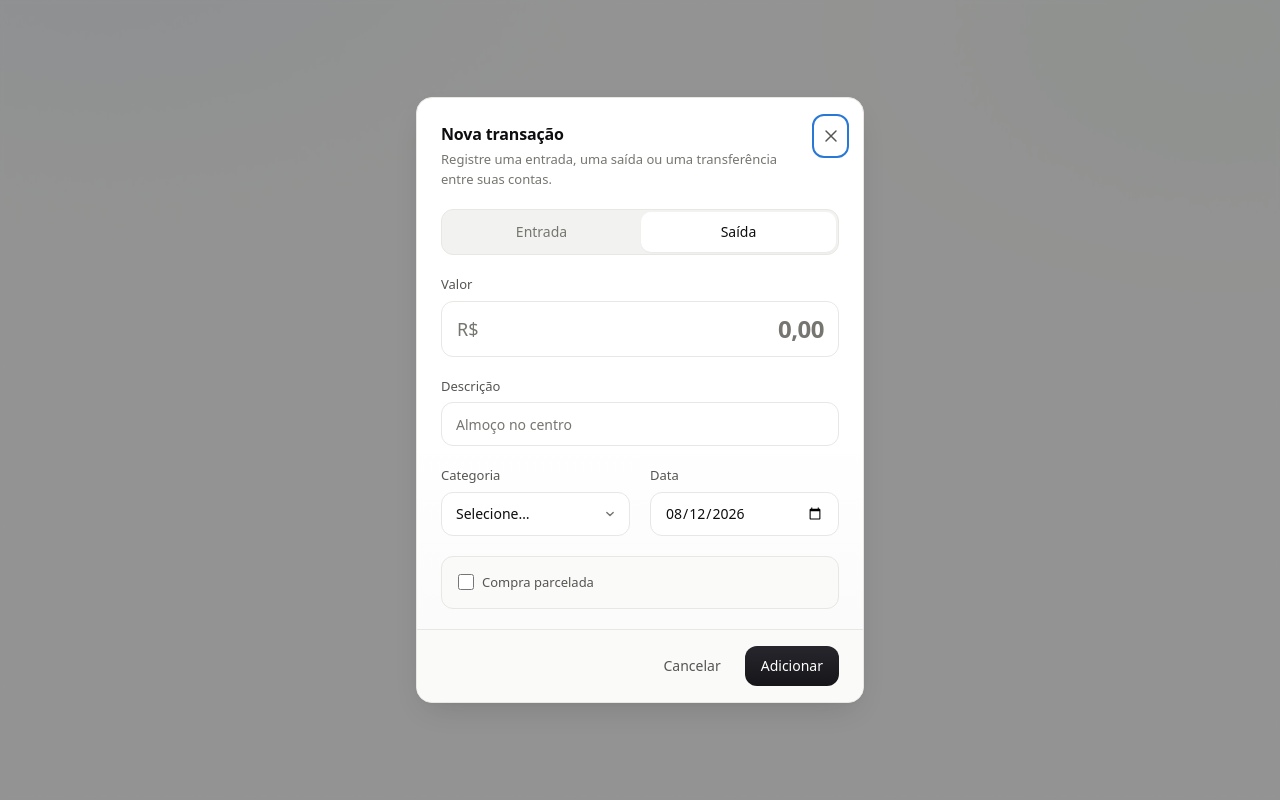
it: diálogo de transação › envia a transação em centavos e fecha o diálogo
Type "8000" into the field labelled "Valor" at (640, 328), box [441,300,839,356]
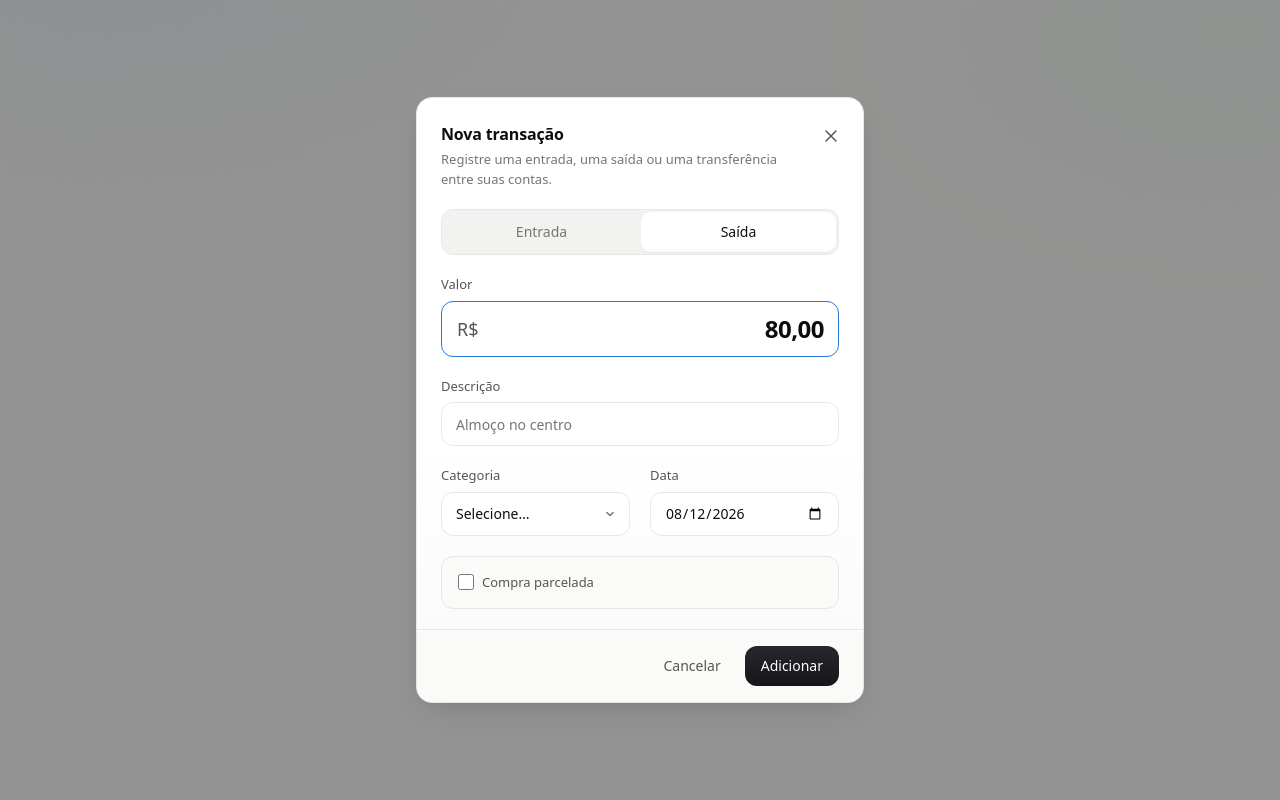
Type "Combustível" into the field labelled "Descrição" at (640, 424), box [441,402,839,446]
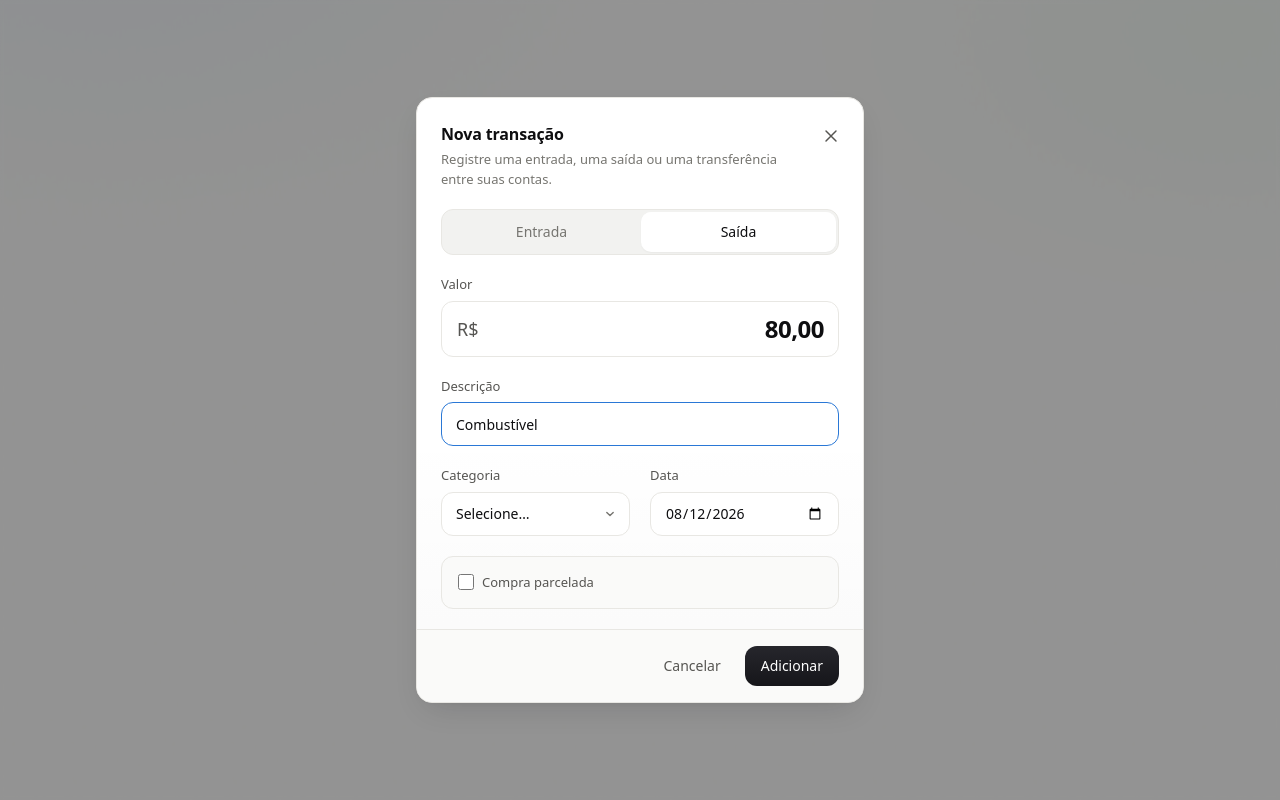
Select "Transporte" in the dropdown labelled "Categoria" at (536, 514), box [441,492,630,536]
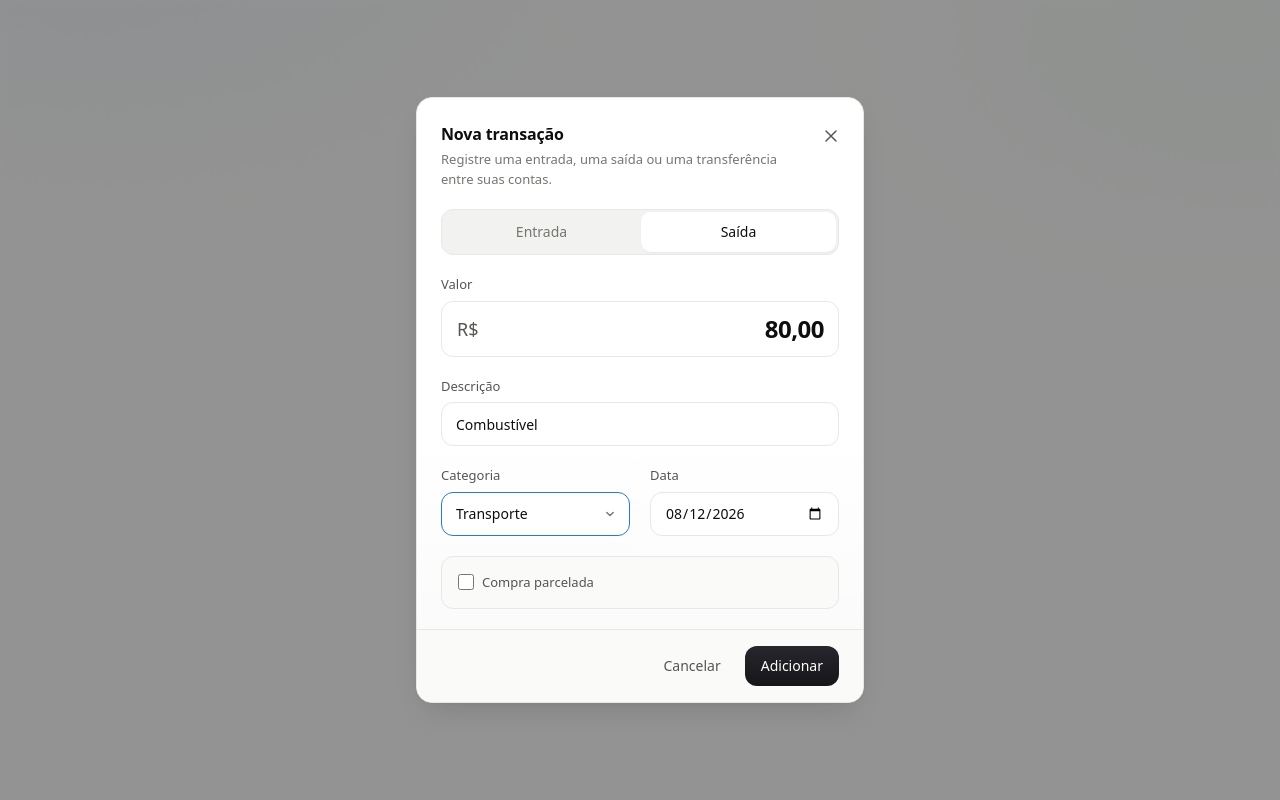
Click the button "Adicionar" at (792, 666), box [745,646,839,686]
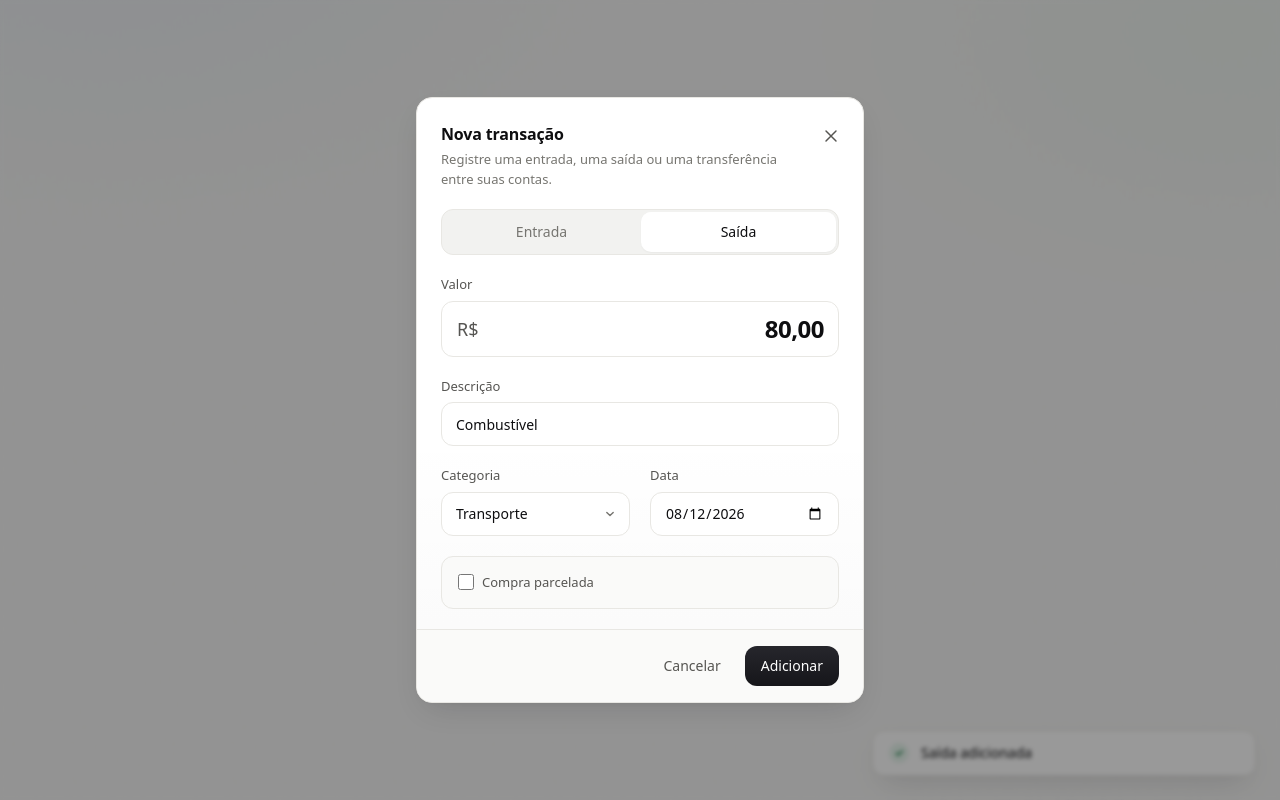
Expected: the text "Saída adicionada" is shown, [921,743,1032,763]
